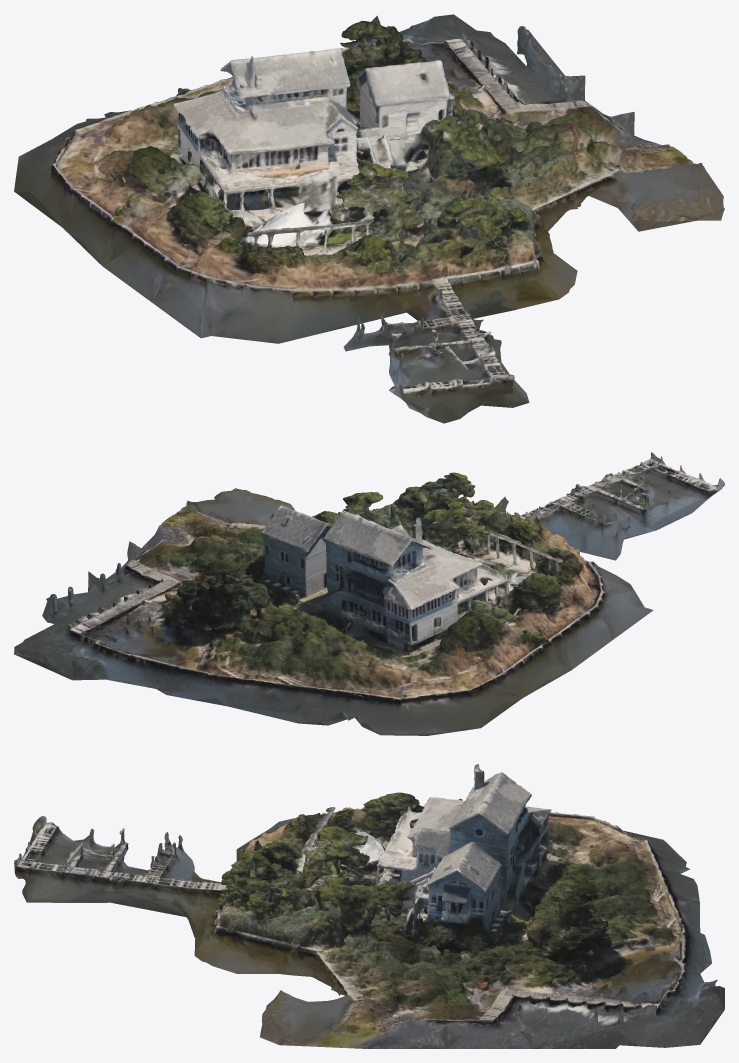
Rendered from sf-river-beach-house-c9822a.glb.
3 views of the same model, one above another, from view 1: azimuth 30°, elevation 25°; view 2: azimuth 150°, elevation 25°; view 3: azimuth 270°, elevation 25° (orthographic). The views are drawn at different scales.
Visible parts, largest first — view 1: Toms_River_Toms_River_u1_v1_0; view 2: Toms_River_Toms_River_u1_v1_0; view 3: Toms_River_Toms_River_u1_v1_0.
Boxes of the visible parts, bbox=[...] form: Toms_River_Toms_River_u1_v1_0: bbox=[14, 14, 724, 423]; Toms_River_Toms_River_u1_v1_0: bbox=[14, 452, 724, 735]; Toms_River_Toms_River_u1_v1_0: bbox=[14, 764, 724, 1048].
Bounding box in the file's own units: 18.64 × 5.21 × 25.27.
Materials: 1 (1 with a texture image).
